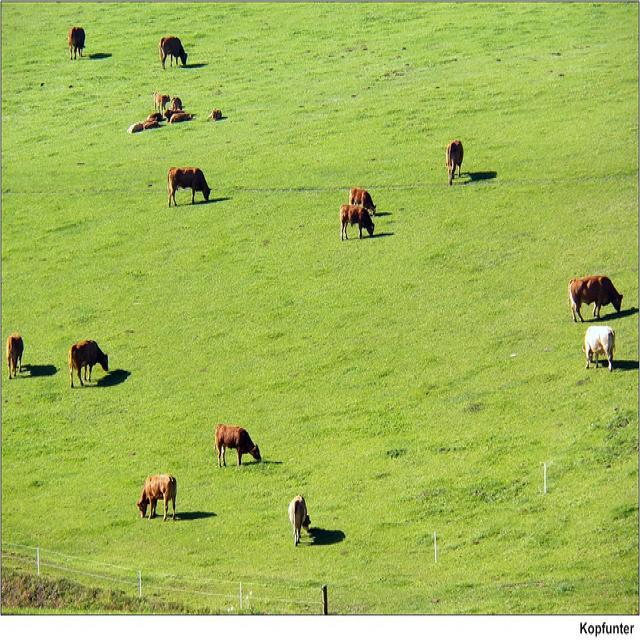cow: (124, 85, 220, 136), (565, 273, 622, 321), (134, 471, 177, 522), (211, 423, 261, 466), (67, 337, 110, 386), (165, 165, 211, 206), (580, 324, 613, 370), (339, 203, 374, 241), (287, 492, 310, 545), (158, 33, 186, 68), (444, 138, 462, 184), (347, 186, 375, 215), (5, 332, 23, 377), (67, 25, 84, 59)
